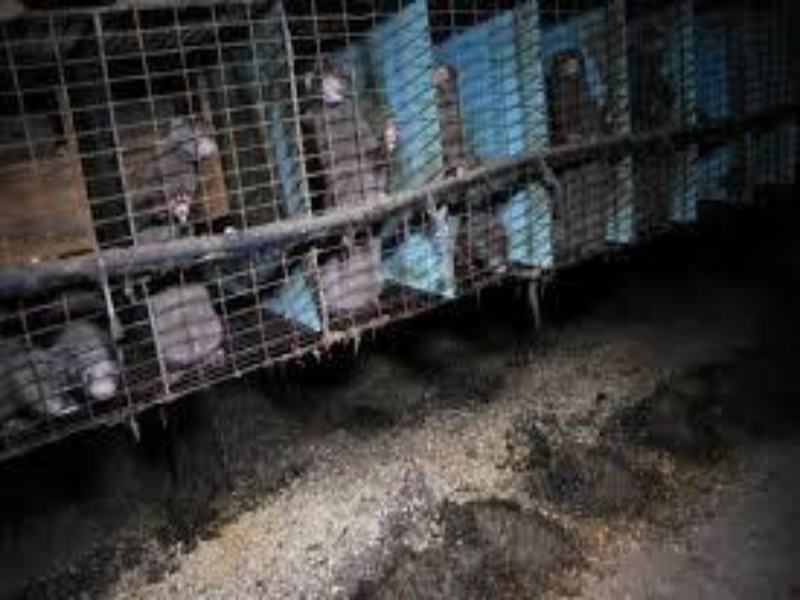minkish: (300, 63, 400, 313), (129, 145, 226, 382), (419, 56, 512, 282), (542, 50, 614, 273), (1, 336, 83, 427), (66, 325, 122, 398)
